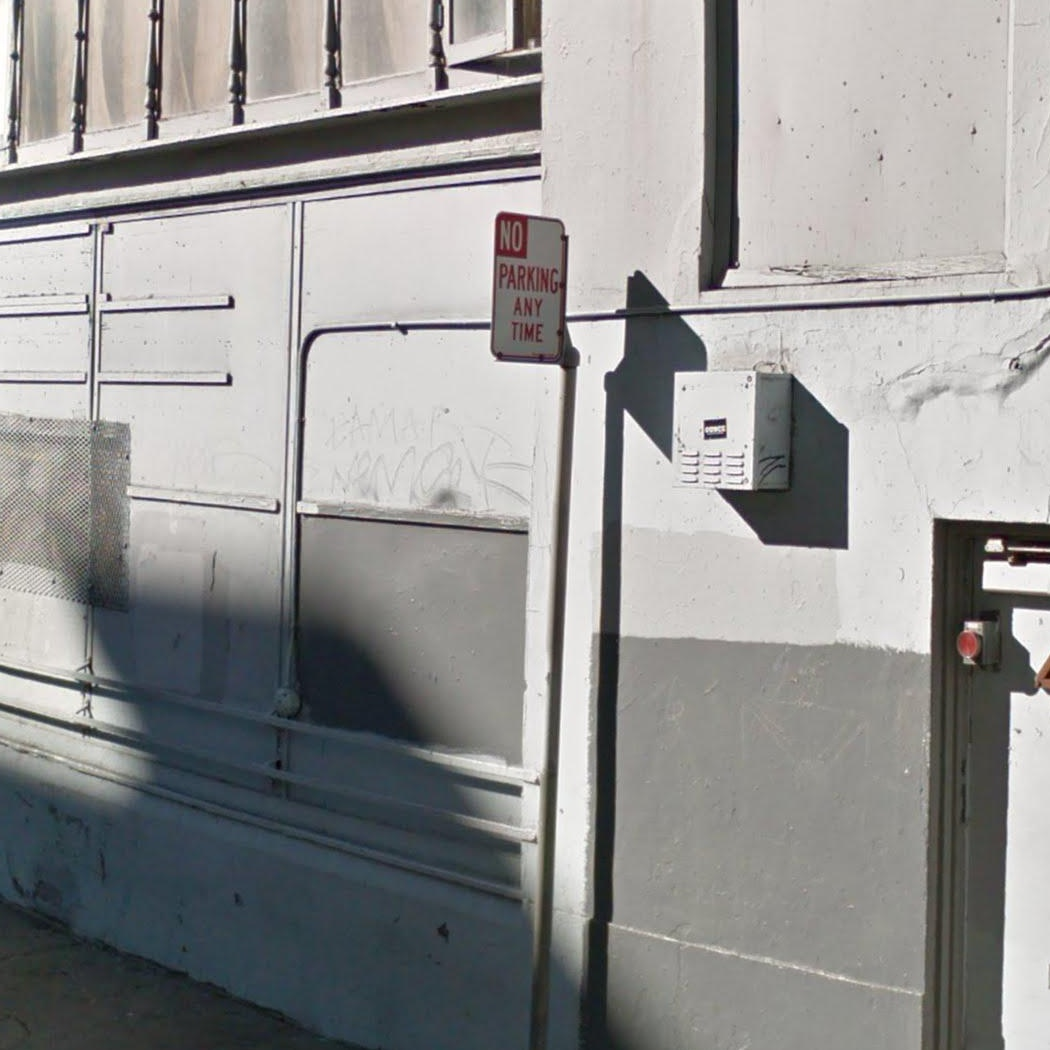No Parking Anytime: (490, 210, 567, 366)
